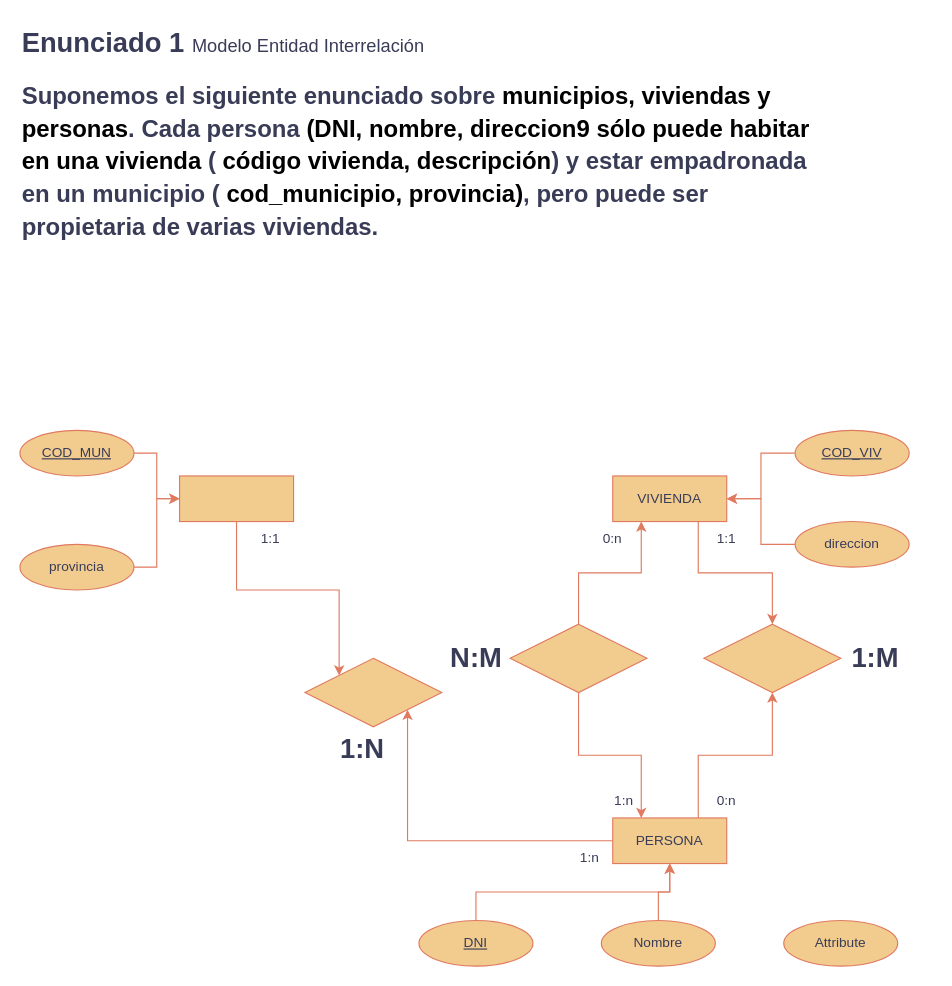
Image size: 952x986. Some labels were removed from this diagram. The centre of each missing label's shape, as x and y in pixels:
Empadronado: the point at 373,692
habitando: the point at 772,658
MUNICIPIO: the point at 236,498
tiene: the point at 578,658
